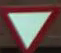Give way: (1, 2, 53, 52)
